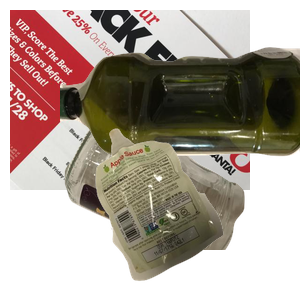glass: (62, 120, 300, 300)
paper: (10, 10, 250, 190)
plastic: (60, 44, 300, 195)
trash: (93, 126, 300, 300)
